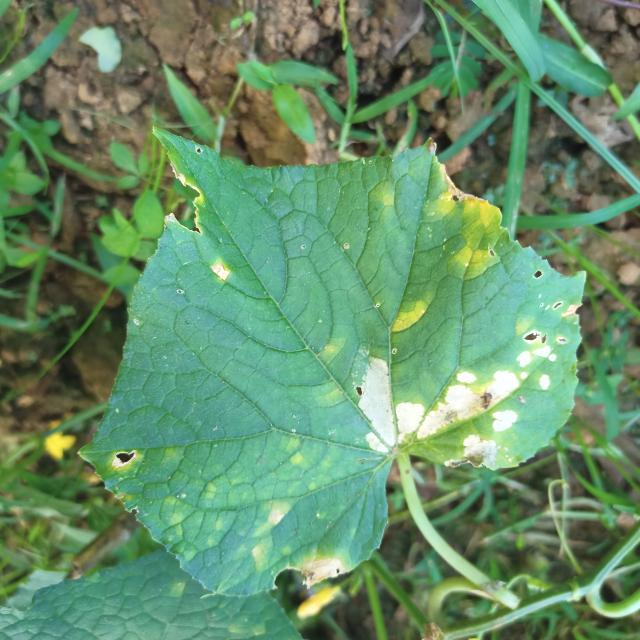disease_cucumber: (354, 332, 570, 465), (422, 188, 503, 279), (250, 495, 292, 562), (388, 294, 433, 334)
